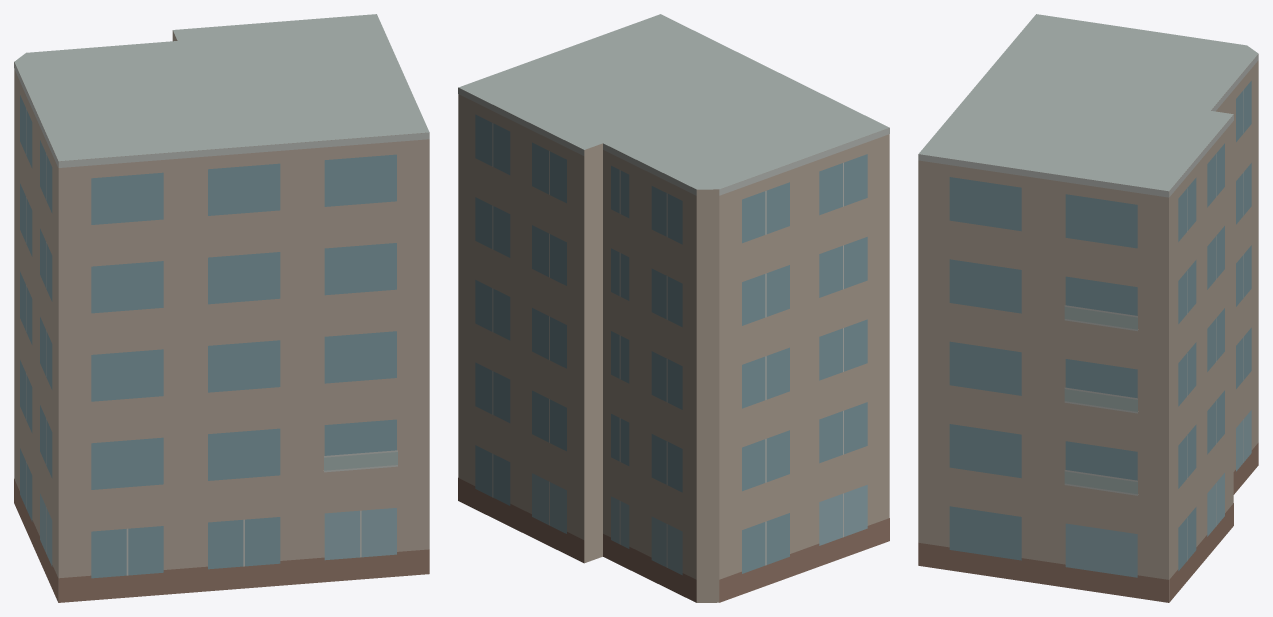
Rendered from survey-upis-32529770.glb.
The picture shows the model from 3 angles, left to right: view 1: azimuth 30°, elevation 25°; view 2: azimuth 150°, elevation 25°; view 3: azimuth 270°, elevation 25°; orthographic projection. The views are drawn at different scales.
Visible parts, largest first — view 1: survey-upis-32529770.tmp; view 2: survey-upis-32529770.tmp; view 3: survey-upis-32529770.tmp.
Boxes of the visible parts, x1,y1,x2,y2 form: survey-upis-32529770.tmp: [14, 14, 429, 602]; survey-upis-32529770.tmp: [458, 14, 889, 602]; survey-upis-32529770.tmp: [918, 14, 1258, 602].
Bounding box in the file's own units: 14.6 × 15.8 × 11.85.
